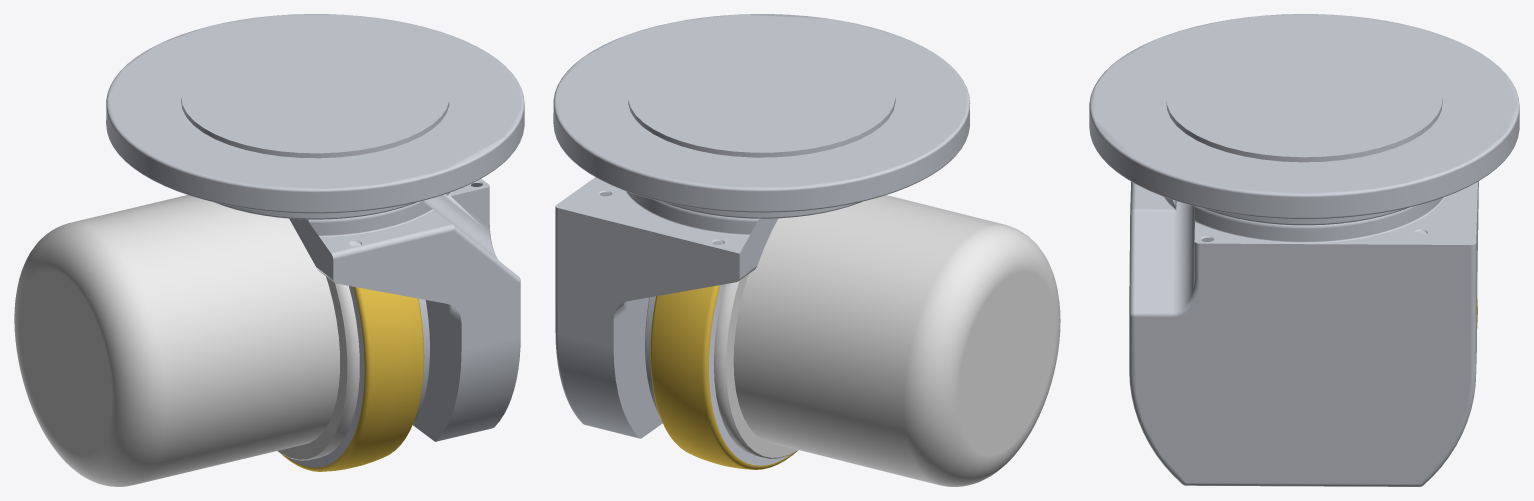
File: RightLeg_LXC_Light_BackWheels.fbx
3 renders of one model, left to right at view 1: azimuth 30°, elevation 25°; view 2: azimuth 150°, elevation 25°; view 3: azimuth 270°, elevation 25°, orthographic. The views are drawn at different scales.
Parts seen in each view (by area): view 1: RightLegBackWheel; view 2: RightLegBackWheel; view 3: RightLegBackWheel.
Part boxes in pixels (box(x1,y1,x2,y2)): RightLegBackWheel: box(14, 14, 524, 486); RightLegBackWheel: box(553, 14, 1060, 486); RightLegBackWheel: box(1089, 14, 1519, 486).
Bounding box in the file's own units: 18.39 × 14.69 × 15.5.
